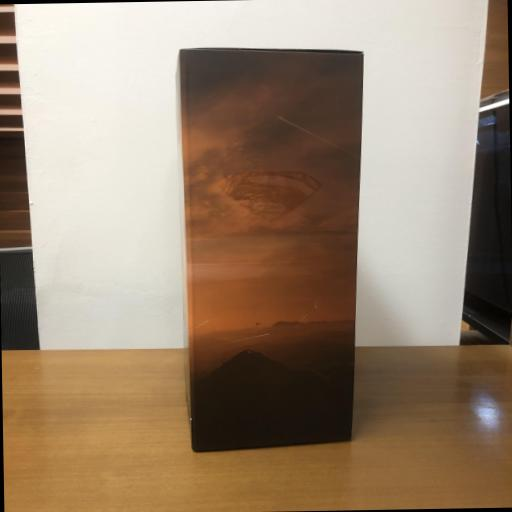superman: (174, 41, 367, 449)
